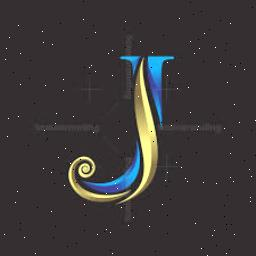j: (42, 38, 196, 228)
